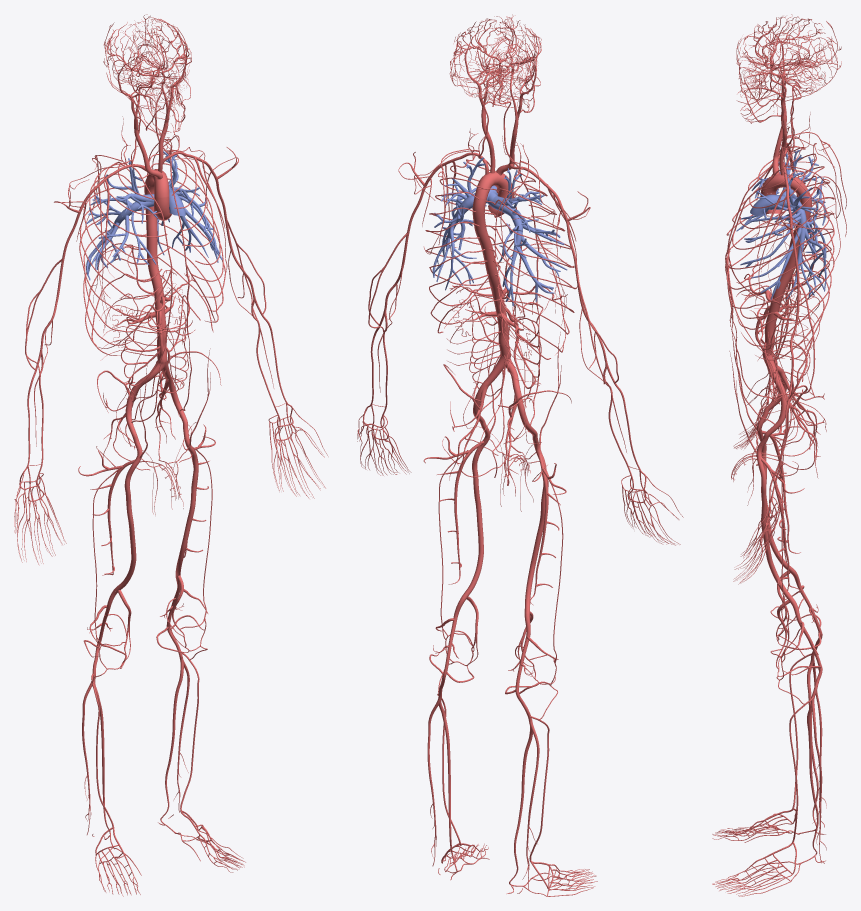
Rendered from arteries.glb.
3 views of the same model, side by side, from view 1: azimuth 30°, elevation 25°; view 2: azimuth 150°, elevation 25°; view 3: azimuth 270°, elevation 25° (orthographic). The views are drawn at different scales.
Parts seen in each view (by area): view 1: Posterior intercostal arteries (R), Posterior intercostal arteries (L), Femoral artery (R), Femoral artery (L), Abdominal aorta, Thoracic aorta; view 2: Posterior intercostal arteries (R), Posterior intercostal arteries (L), Femoral artery (L), Thoracic aorta, Femoral artery (R), Abdominal aorta; view 3: Posterior intercostal arteries (L), Posterior intercostal arteries (R), Femoral artery (L), Abdominal aorta, Femoral artery (R), Aortic arch, Posterior tibial artery (L), Brachial artery (L), Lateral basal segmental artery of left lung, Fibular artery (L), Posterior tibial artery (R), Proper palmar digital arteries (L) (+14 smaller).
Part boxes in pixels (x1=…): Posterior intercostal arteries (R): x1=79, y1=163, x2=169, y2=355; Posterior intercostal arteries (L): x1=149, y1=153, x2=225, y2=332; Femoral artery (R): x1=114, y1=432, x2=142, y2=592; Femoral artery (L): x1=175, y1=420, x2=198, y2=576; Abdominal aorta: x1=148, y1=263, x2=167, y2=362; Thoracic aorta: x1=144, y1=181, x2=157, y2=264; Posterior intercostal arteries (R): x1=478, y1=188, x2=576, y2=359; Posterior intercostal arteries (L): x1=425, y1=177, x2=513, y2=333; Femoral artery (L): x1=461, y1=419, x2=490, y2=599; Thoracic aorta: x1=472, y1=197, x2=497, y2=276; Femoral artery (R): x1=524, y1=433, x2=548, y2=613; Abdominal aorta: x1=487, y1=273, x2=510, y2=357; Posterior intercostal arteries (L): x1=726, y1=175, x2=834, y2=360; Posterior intercostal arteries (R): x1=726, y1=153, x2=834, y2=308; Femoral artery (L): x1=756, y1=432, x2=794, y2=602; Abdominal aorta: x1=762, y1=267, x2=794, y2=355; Femoral artery (R): x1=756, y1=406, x2=794, y2=573; Aortic arch: x1=762, y1=173, x2=807, y2=196; Posterior tibial artery (L): x1=801, y1=702, x2=818, y2=863; Brachial artery (L): x1=789, y1=217, x2=799, y2=375; Lateral basal segmental artery of left lung: x1=751, y1=225, x2=801, y2=300; Fibular artery (L): x1=811, y1=702, x2=826, y2=863; Posterior tibial artery (R): x1=801, y1=659, x2=818, y2=833; Proper palmar digital arteries (L): x1=733, y1=500, x2=771, y2=584.
Size of the model in its own units: 0.6797 by 1.73 by 0.2503.
